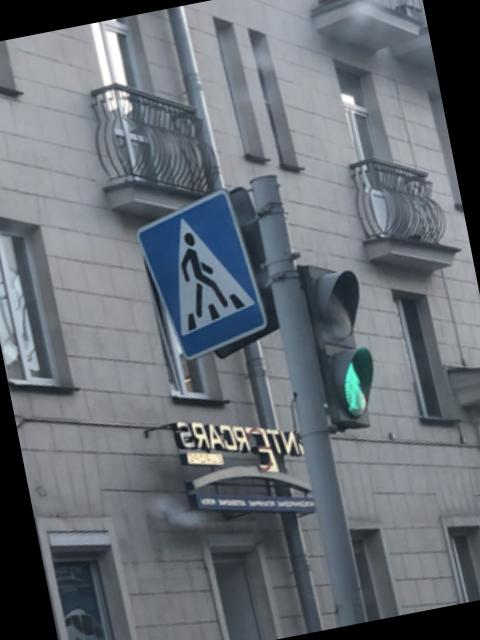crosswalk-sign: (130, 181, 281, 369)
